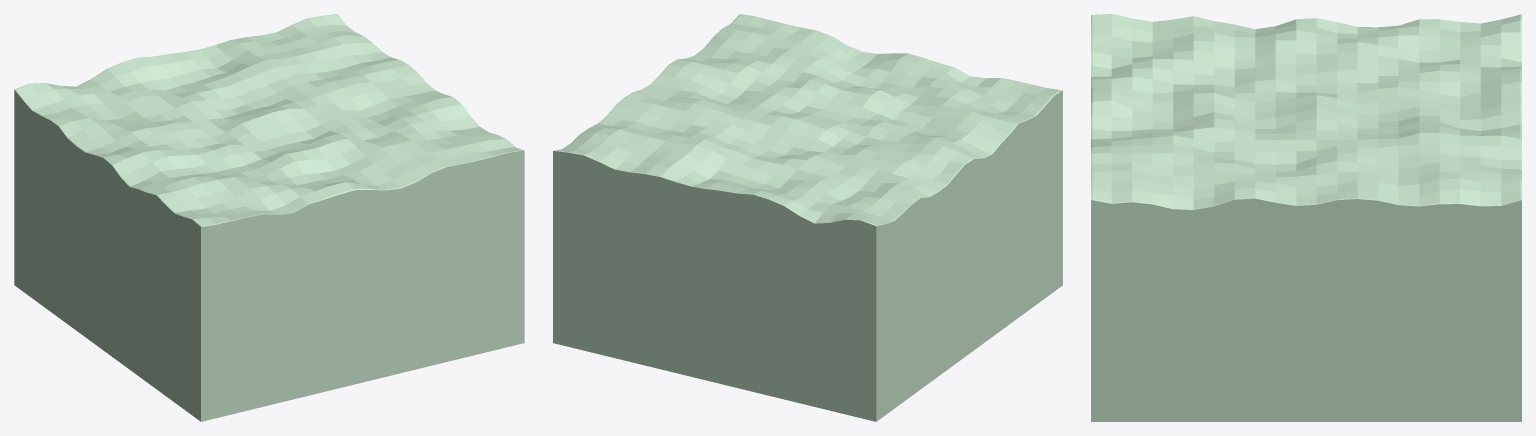
Rendered from marine-biome-water.glb.
The picture shows the model from 3 angles, left to right: view 1: azimuth 30°, elevation 25°; view 2: azimuth 150°, elevation 25°; view 3: azimuth 270°, elevation 25°; orthographic projection. The views are drawn at different scales.
Visible parts, largest first — view 1: Cube; view 2: Cube; view 3: Cube.
Boxes of the visible parts, x1,y1,x2,y2 form: Cube: [14, 14, 524, 421]; Cube: [553, 14, 1062, 421]; Cube: [1091, 14, 1521, 421].
Bounding box in the file's own units: 15.34 × 8.98 × 15.34.
